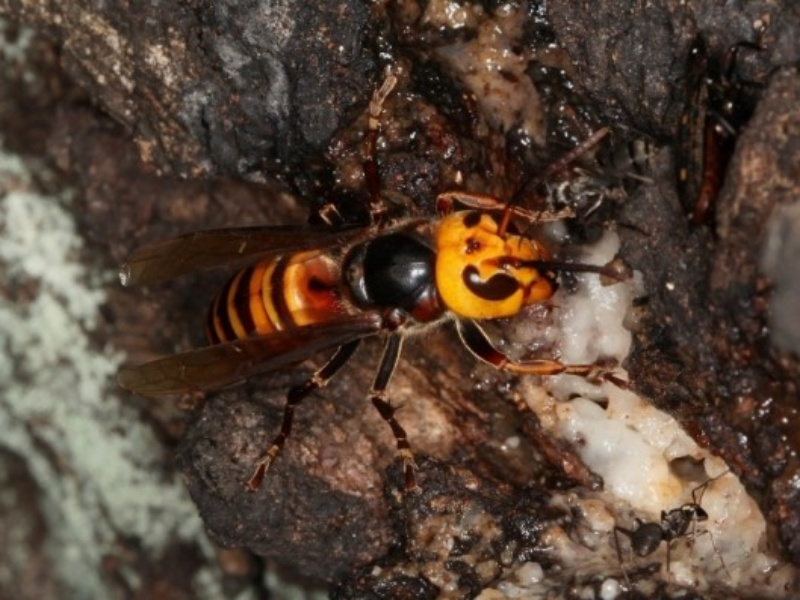asian_giant_hornet: (207, 180, 579, 374)
